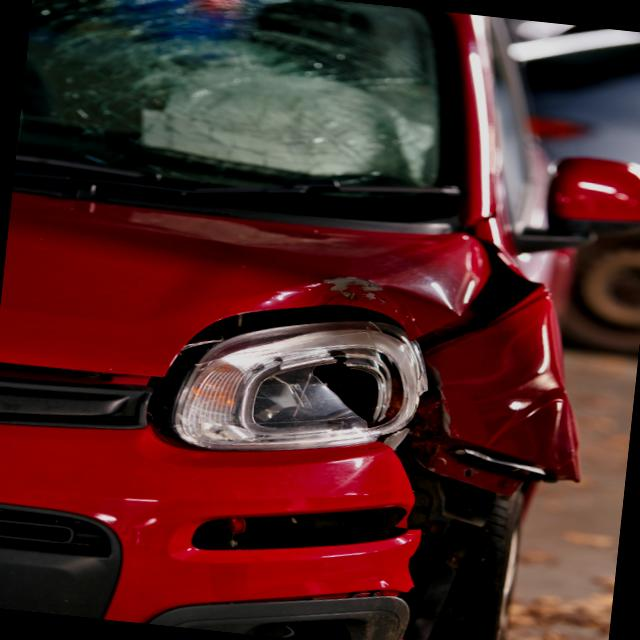Dechirure: (398, 236, 557, 364)
Phare abime: (270, 309, 440, 454)
Rayure: (302, 263, 422, 325)
